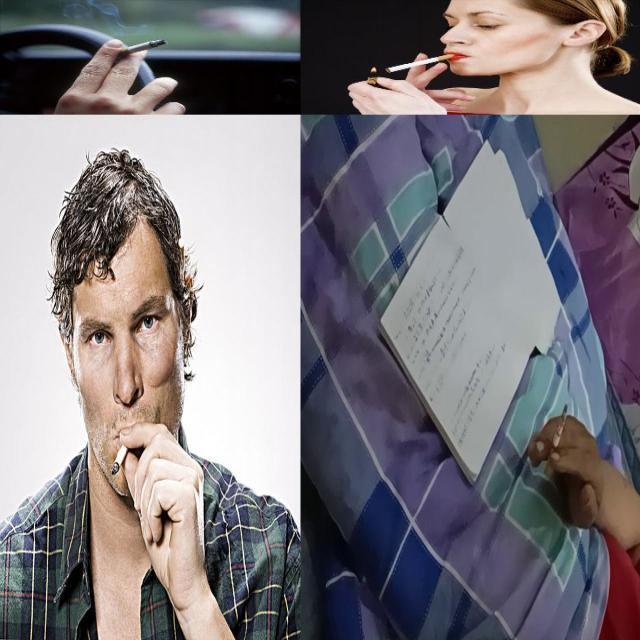smoking: (544, 404, 568, 481), (385, 53, 455, 74), (115, 40, 168, 58), (110, 444, 130, 478)
